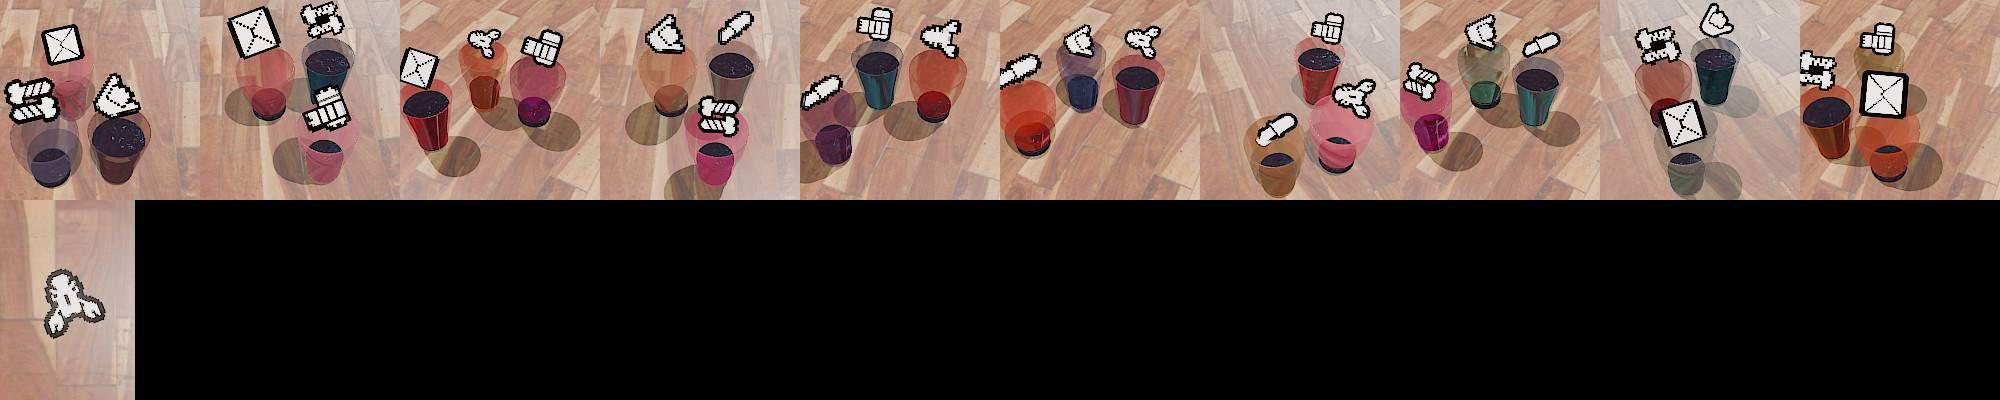icon: (41, 268, 105, 338), (227, 6, 283, 60), (1656, 98, 1708, 150), (4, 76, 60, 124), (302, 83, 351, 132), (93, 71, 142, 119), (1860, 71, 1907, 121), (399, 46, 440, 93), (519, 27, 564, 68), (1634, 24, 1680, 64), (41, 24, 84, 66), (1330, 78, 1375, 118), (299, 1, 345, 40), (998, 52, 1042, 92), (646, 13, 686, 55), (800, 72, 844, 110), (919, 19, 960, 59), (1799, 48, 1838, 90), (1403, 62, 1441, 103), (698, 98, 739, 135), (1255, 111, 1297, 147), (717, 10, 755, 47), (855, 6, 894, 42), (1464, 13, 1499, 53), (1124, 24, 1161, 60), (1859, 21, 1897, 56), (1699, 2, 1735, 38), (1311, 10, 1345, 46), (466, 28, 503, 60), (1522, 30, 1562, 59), (1063, 23, 1095, 57)
